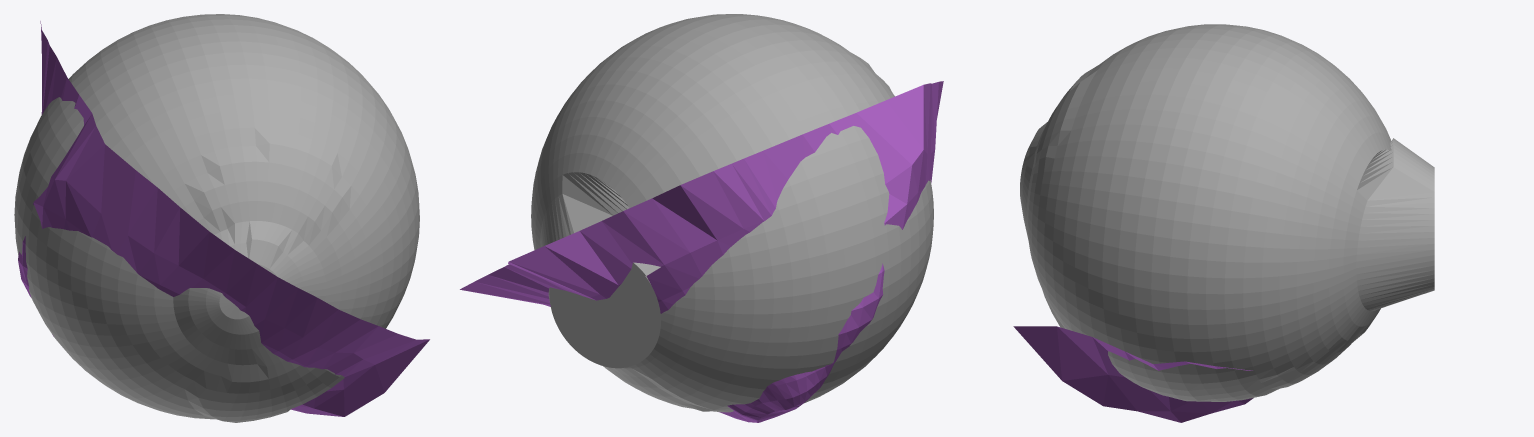
File: G02_A2_ALIGNED_GT.glb
The picture shows the model from 3 angles, left to right: view 1: azimuth 30°, elevation 25°; view 2: azimuth 150°, elevation 25°; view 3: azimuth 270°, elevation 25°; orthographic projection. The views are drawn at different scales.
Parts seen in each view (by area): view 1: Independent_GT, A2; view 2: Independent_GT, A2; view 3: Independent_GT, A2.
Part boxes in pixels (<box>): Independent_GT: <box>14,14,419,422</box>; A2: <box>18,21,429,416</box>; Independent_GT: <box>531,14,933,412</box>; A2: <box>460,81,943,422</box>; Independent_GT: <box>1020,24,1434,401</box>; A2: <box>1013,326,1253,422</box>.
Bounding box in the file's own units: 0.00417 × 0.0041 × 0.00577.
